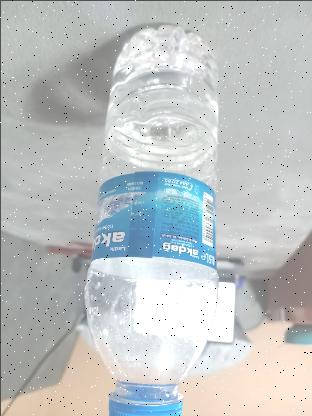Plastic Bottle: (77, 19, 219, 416)
